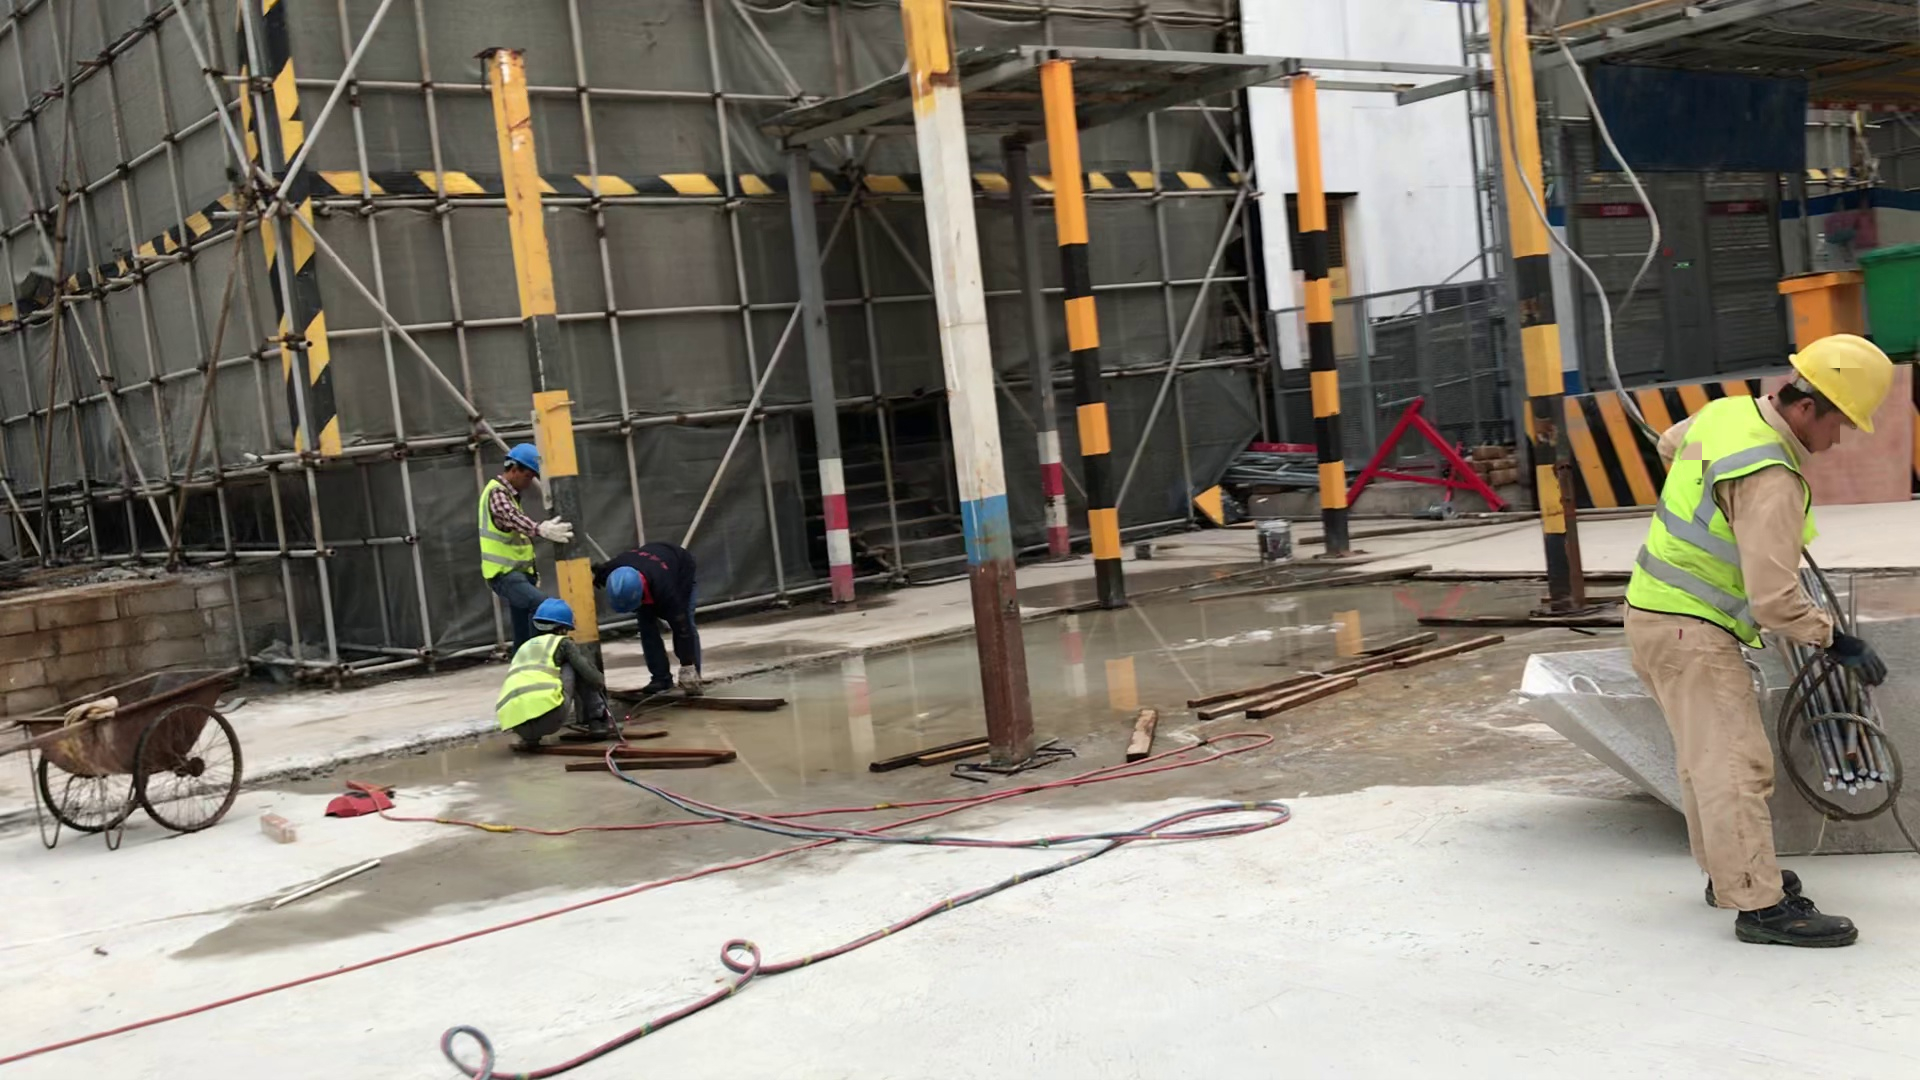helmet: (1786, 314, 1901, 460), (520, 588, 589, 642), (485, 429, 550, 474), (604, 557, 651, 611)
person: (1608, 311, 1888, 966), (585, 518, 724, 719), (461, 424, 571, 615), (494, 599, 605, 758)
vest: (1622, 397, 1807, 654), (495, 628, 579, 743), (474, 470, 541, 582)
